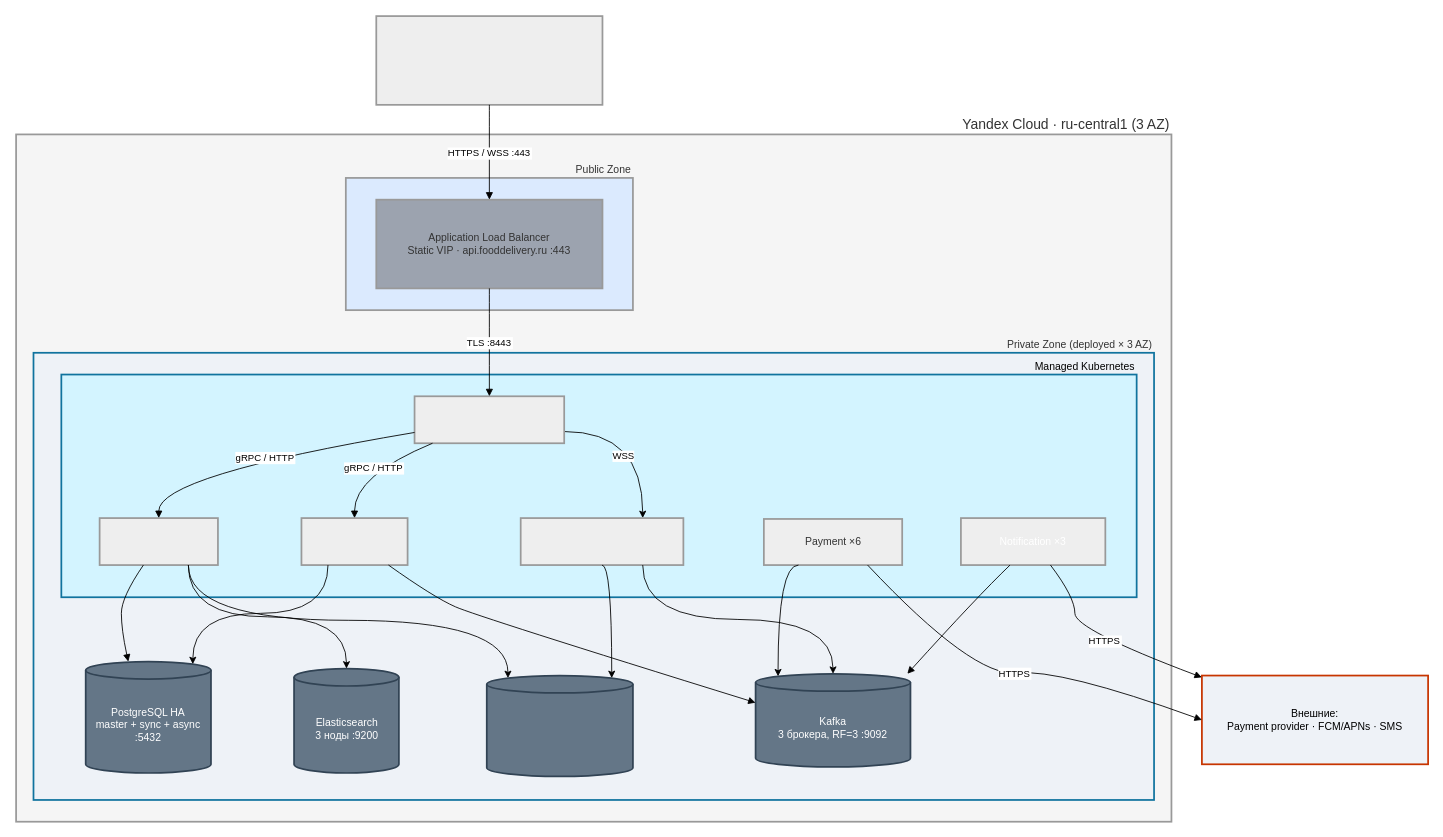
Some shapes in this 1443 by 837 pixel diagram are drawn without their labels. Each missing label, with the centre of its shape:
"Catalog ×9" goes at [158,541].
"Kong API GW ×6" goes at [489,419].
"Order ×6" goes at [354,541].
"Redis Cluster 3 шарда × 2 реплики :6379" goes at [559,725].
"Tracking ×6 (WSS)" goes at [601,541].
"Клиенты, курьеры, рестораны (iOS / Android / Web)" goes at [489,60].
